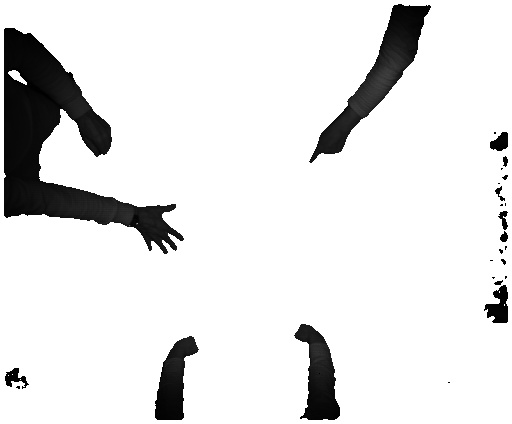fist: (80, 113, 111, 159), (288, 320, 319, 348), (175, 336, 199, 359)
hand: (140, 200, 183, 255), (304, 123, 351, 167)
